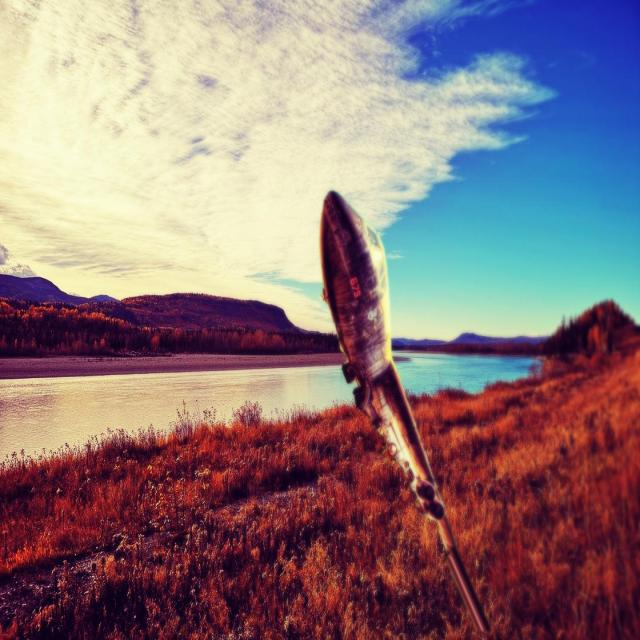airplane: (319, 188, 491, 634)
